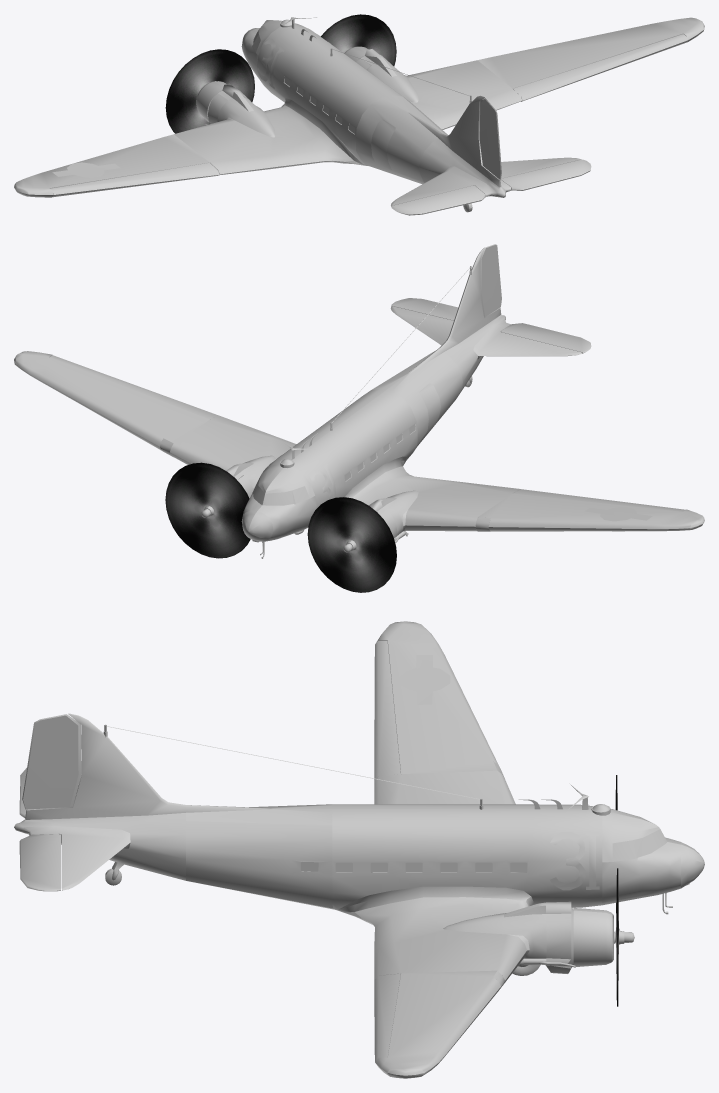
The model's file is World War II - Plane - Flying.fbx.
3 views of the same model, one above another, from view 1: azimuth 30°, elevation 25°; view 2: azimuth 150°, elevation 25°; view 3: azimuth 270°, elevation 25° (orthographic). The views are drawn at different scales.
Visible parts, largest first — view 1: World War II - Plane Flying; view 2: World War II - Plane Flying; view 3: World War II - Plane Flying.
Boxes of the visible parts, x1,y1,x2,y2 form: World War II - Plane Flying: [14, 14, 704, 215]; World War II - Plane Flying: [14, 244, 704, 592]; World War II - Plane Flying: [14, 621, 704, 1078].
Size of the model in its own units: 2867 by 710 by 1851.
